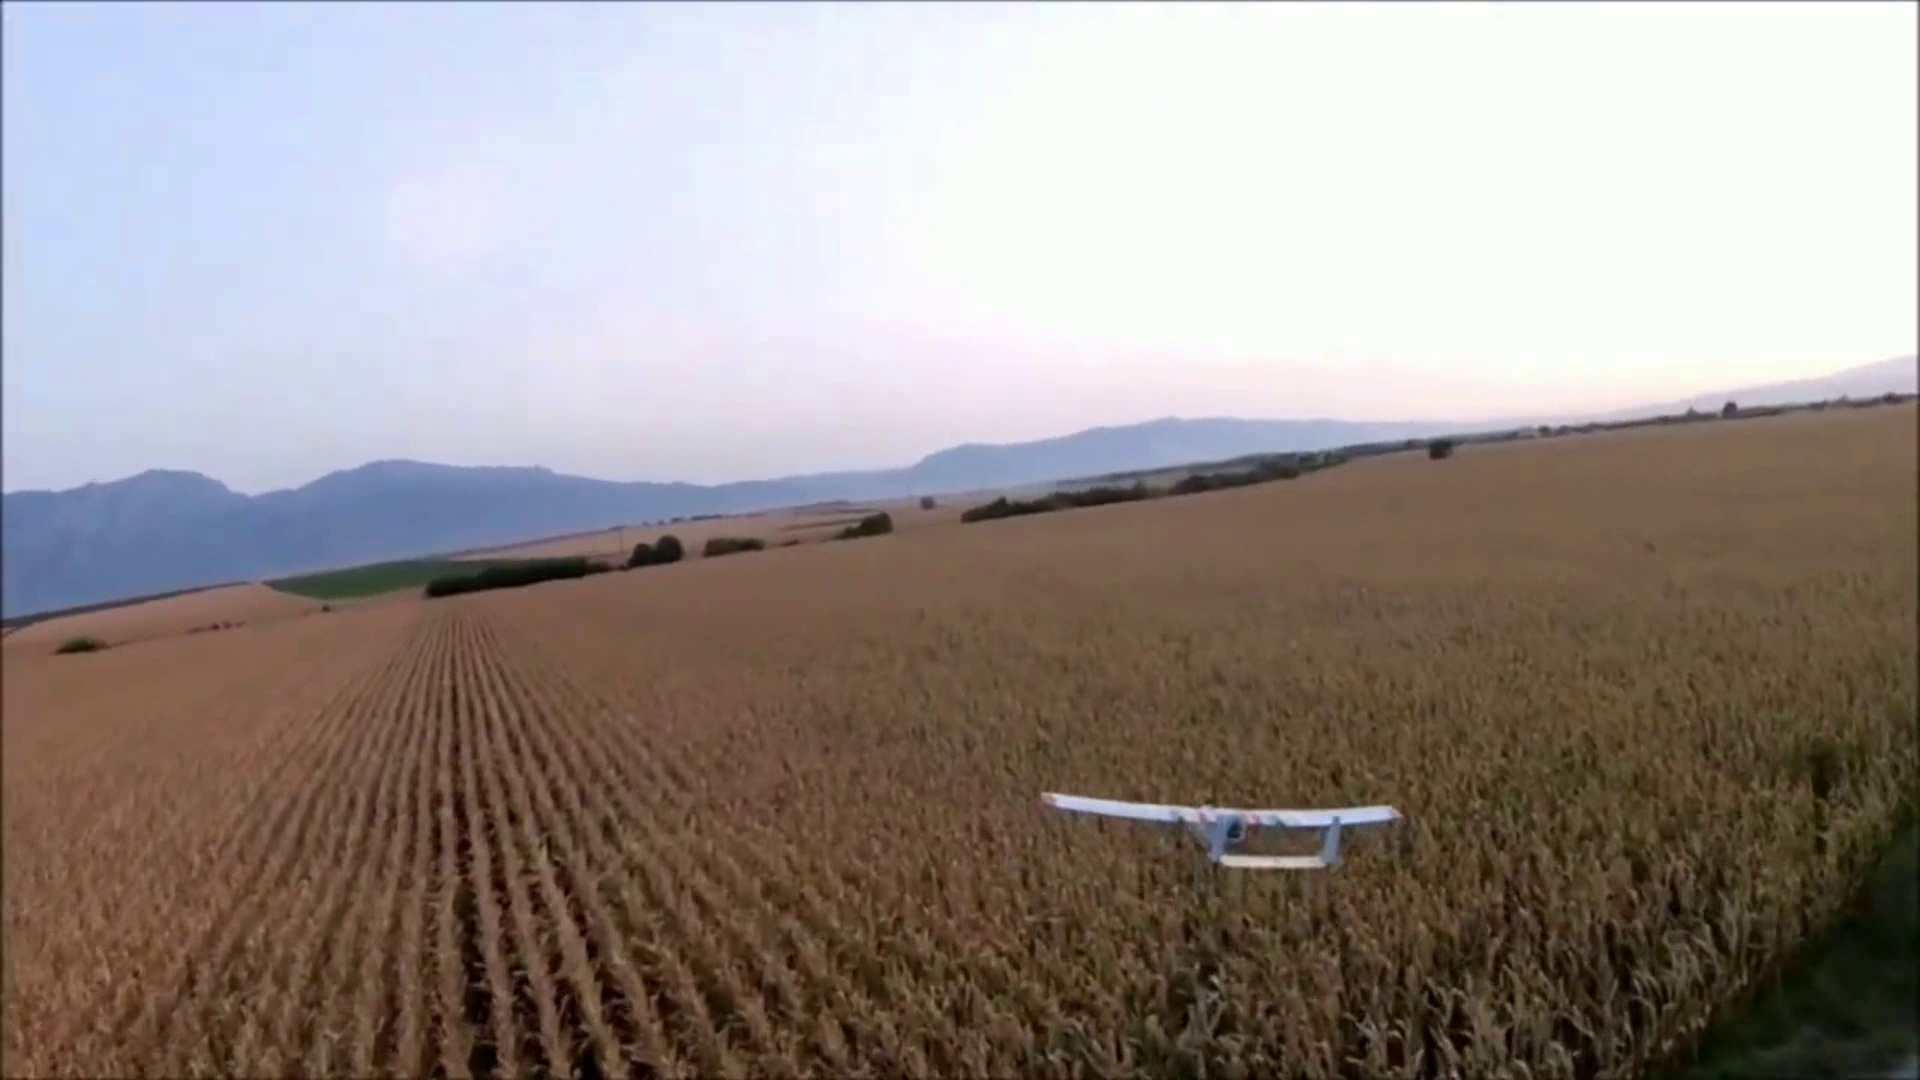airplane: (1042, 793, 1402, 869)
